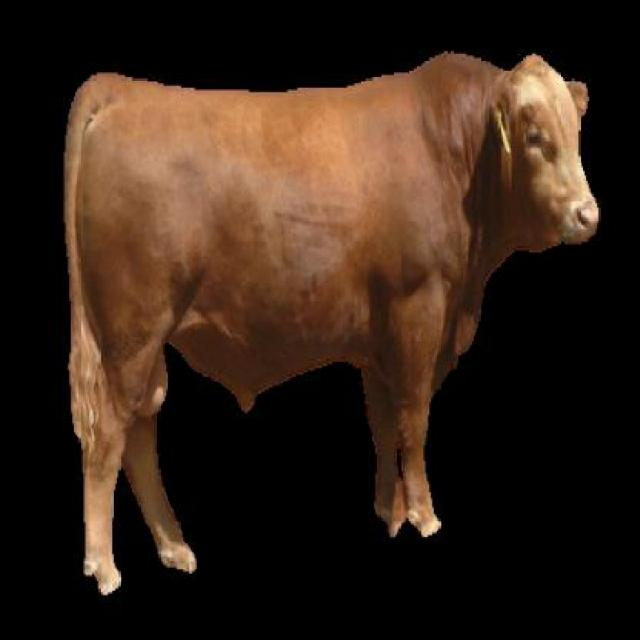Cow: (60, 54, 598, 580)
